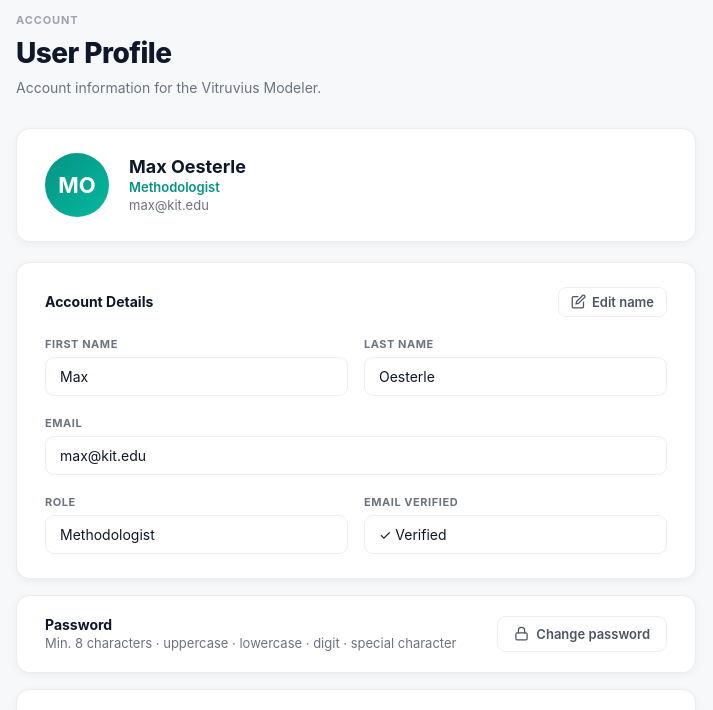
Test: ProfileView › switches to edit mode when Edit name is clicked
Expected: the text "max@kit.edu" below "Max Oesterle" is shown, [129, 197, 209, 213]
Click the button "Edit name".
click(612, 302)  # box [558, 287, 667, 317]
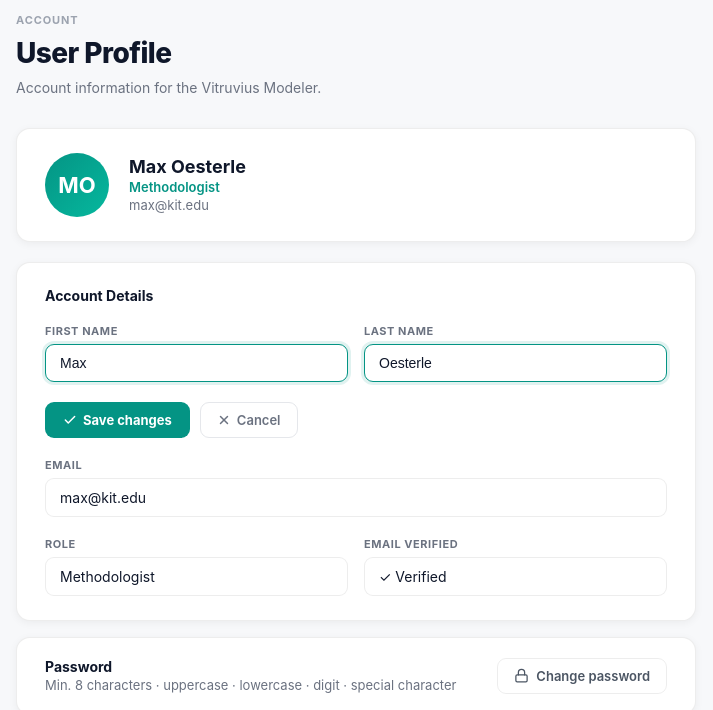
Now the field showing "Max" below "First Name" is shown, box [45, 344, 348, 382]
Now the field showing "Oesterle" below "Last Name" is shown, box [364, 344, 667, 382]
